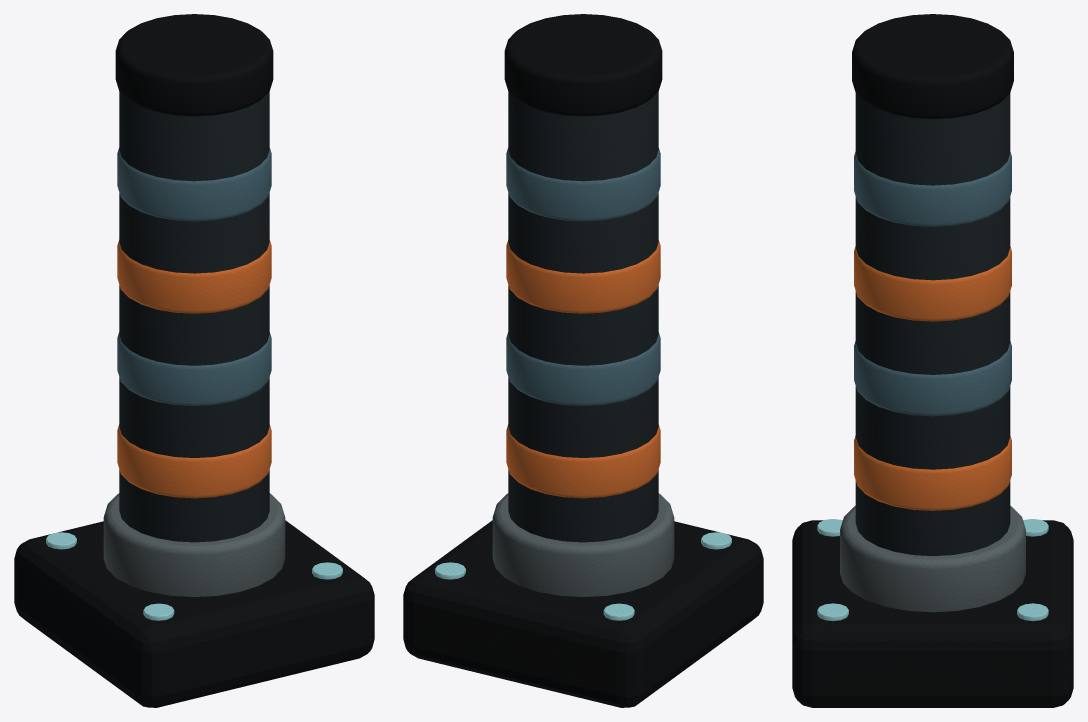
File: SecurityBollard.glb
3 views of the same model, side by side, from view 1: azimuth 30°, elevation 25°; view 2: azimuth 150°, elevation 25°; view 3: azimuth 270°, elevation 25° (orthographic). The views are drawn at different scales.
Visible parts, largest first — view 1: SecurityBollard_Mesh; view 2: SecurityBollard_Mesh; view 3: SecurityBollard_Mesh.
Boxes of the visible parts, x1,y1,x2,y2 form: SecurityBollard_Mesh: (14, 14, 374, 707); SecurityBollard_Mesh: (403, 14, 763, 707); SecurityBollard_Mesh: (792, 14, 1073, 707).
Bounding box in the file's own units: 0.62 × 1.48 × 0.62.
6 materials, 6 textured.
